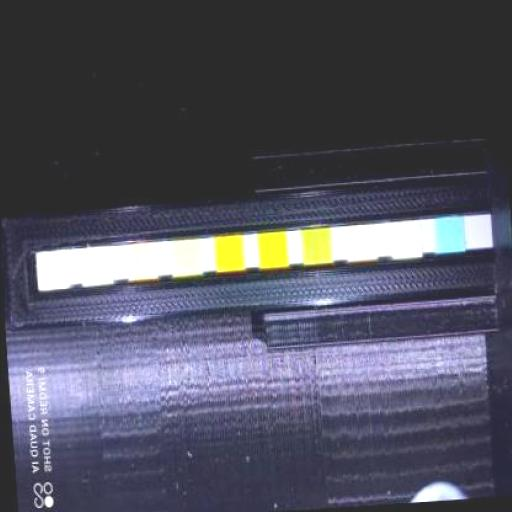Bilirubin: (392, 222, 418, 256)
Blood: (257, 232, 285, 266)
Glucose: (436, 216, 462, 250)
Ketone: (347, 226, 373, 260)
Leukocytes: (38, 252, 66, 288)
Nitrite: (83, 246, 109, 282)
Protein: (172, 239, 198, 274)
SpGravity: (303, 228, 329, 262)
pH: (216, 235, 242, 269)
strip: (35, 214, 491, 287), (128, 243, 156, 278)
